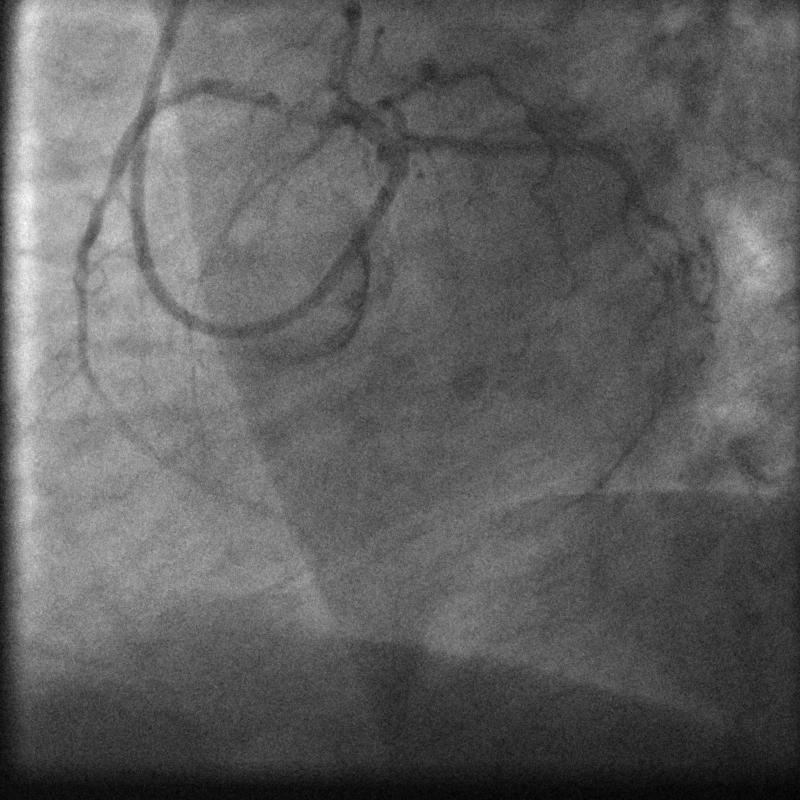Stenosis: (266, 83, 323, 129)
